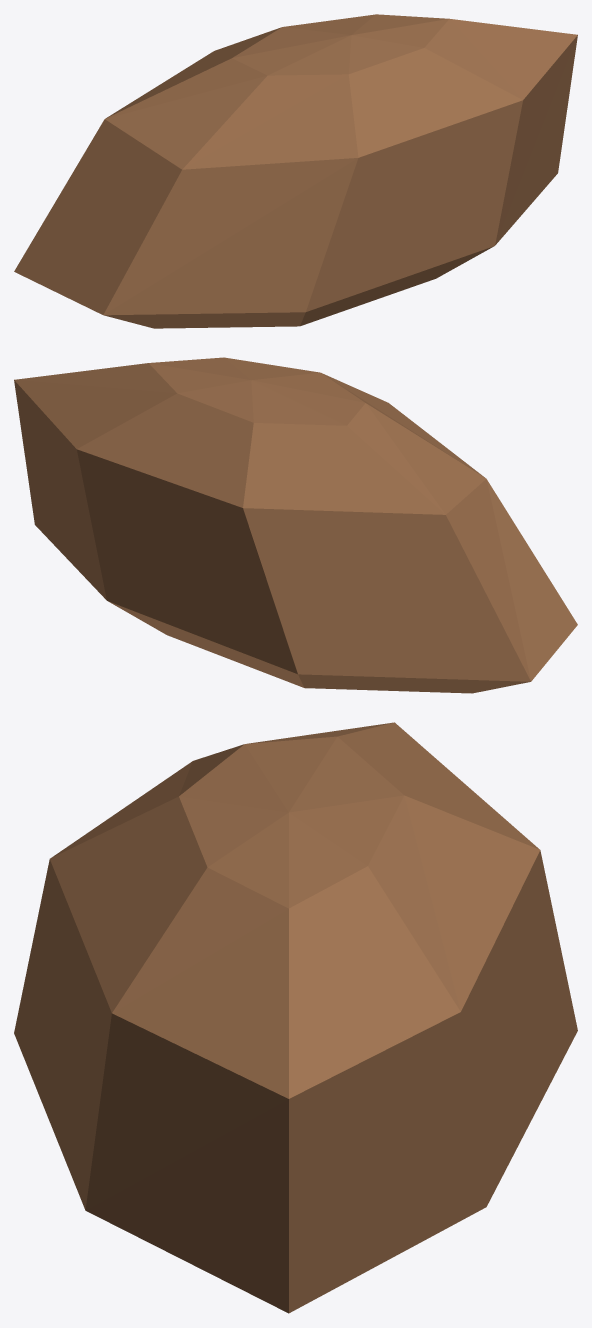
The picture shows the model from 3 angles, top to bottom: view 1: azimuth 30°, elevation 25°; view 2: azimuth 150°, elevation 25°; view 3: azimuth 270°, elevation 25°; orthographic projection. The views are drawn at different scales.
Parts seen in each view (by area): view 1: R07_低平砂岩; view 2: R07_低平砂岩; view 3: R07_低平砂岩.
Part boxes in pixels (box(x1,y1,x2,y2)): R07_低平砂岩: box(14, 14, 577, 328); R07_低平砂岩: box(14, 357, 577, 693); R07_低平砂岩: box(14, 722, 577, 1313).
Bounding box in the file's own units: 1.34 × 0.5382 × 0.7126.
